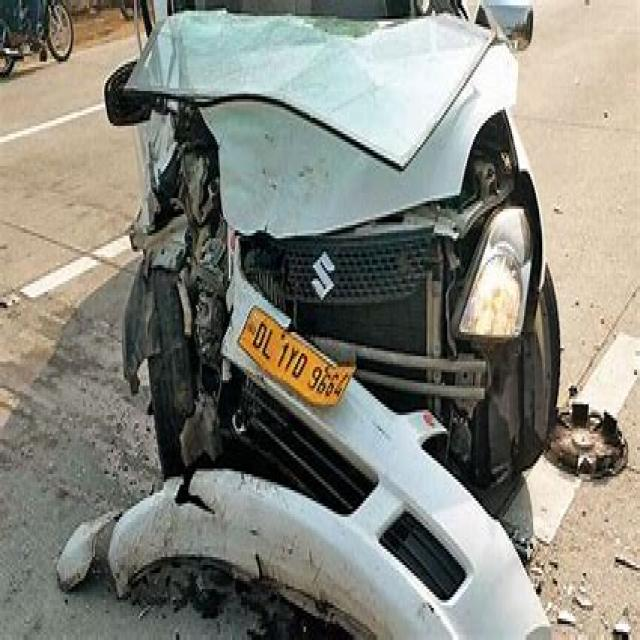Accident: (80, 46, 611, 640)
